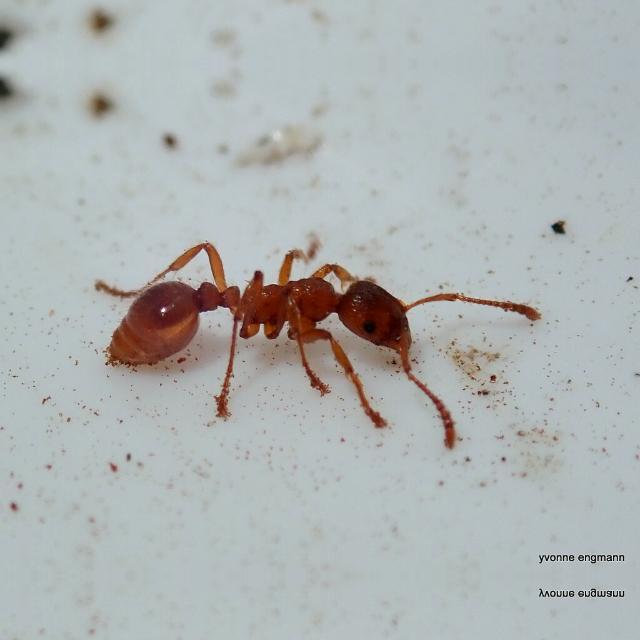Myrmica: (98, 215, 470, 408)
